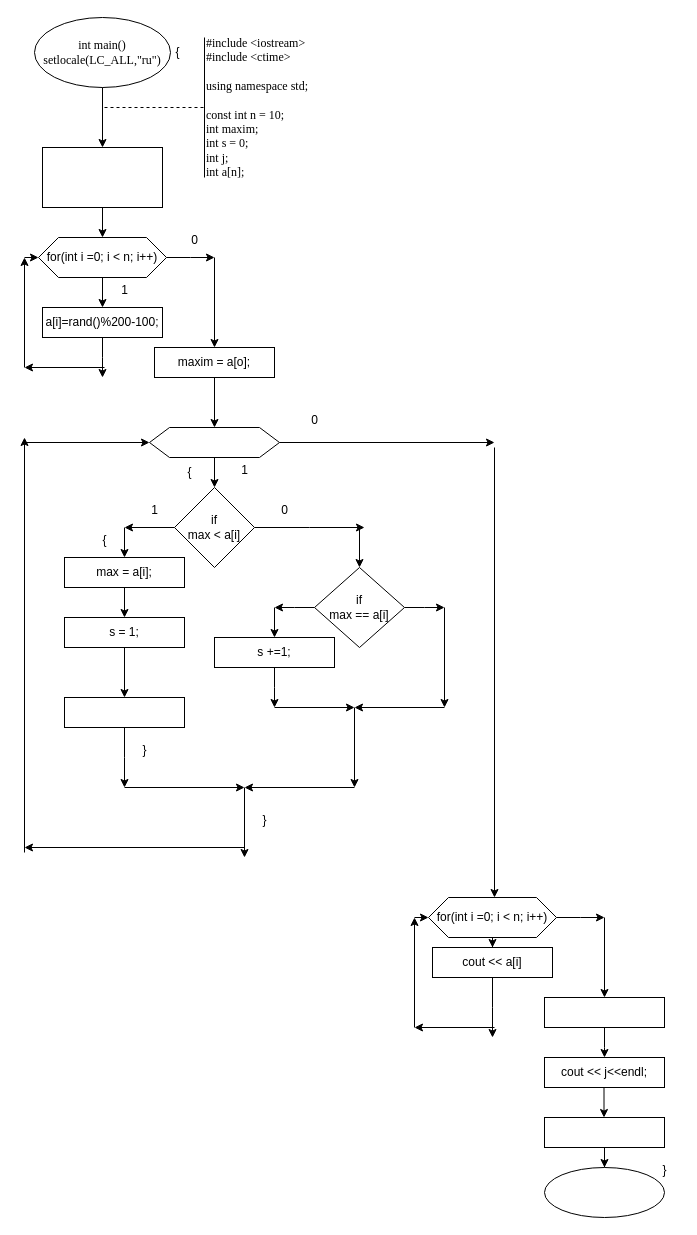
This 697x1235 diagram has some shape labels left out. The shapes that lost their labels are listed below. From the top down, each one's box as (x1, y1, x2, y2) in pixels, then its label:
(42, 146, 162, 208): srand(time(NULL));
(148, 426, 280, 458): for(int i = 0; i < n; i++)
(64, 696, 184, 728): j = i+1;
(544, 996, 664, 1028): cout << maxim<<endl;
(544, 1116, 664, 1148): cout << s<<endl;
(544, 1166, 664, 1218): return 0;
